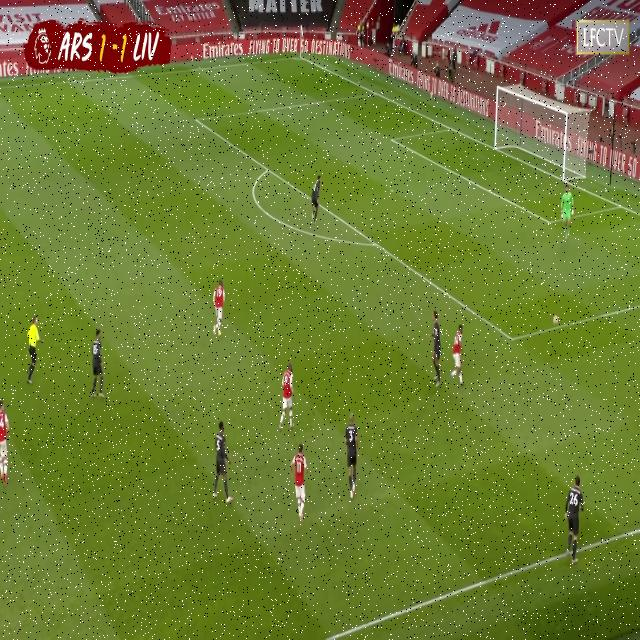Ball: (550, 312, 560, 328)
GoalKeeper: (559, 183, 573, 242)
TEAM 1: (290, 445, 306, 523), (280, 364, 296, 432), (0, 399, 11, 485), (449, 324, 464, 387), (213, 280, 226, 336)
TEAM 2: (565, 477, 586, 567), (215, 422, 232, 504), (344, 416, 360, 500), (428, 310, 442, 389), (90, 330, 105, 401), (310, 174, 323, 223)
